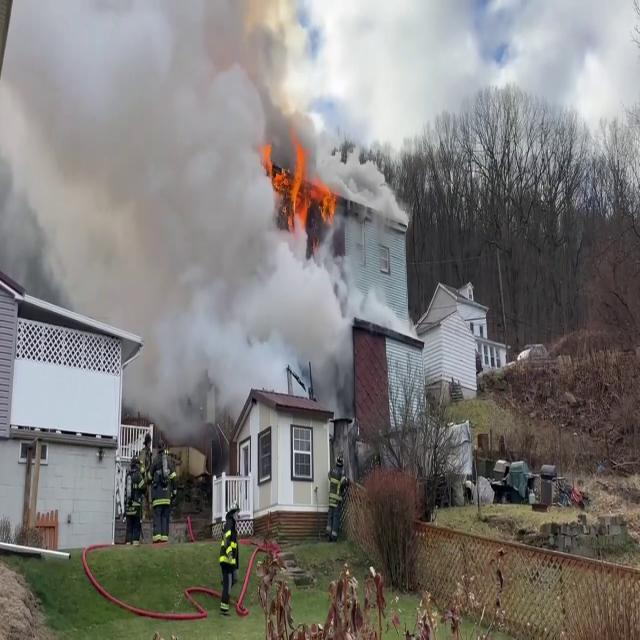Fire: (262, 131, 342, 233)
Smoke: (9, 0, 361, 394)
